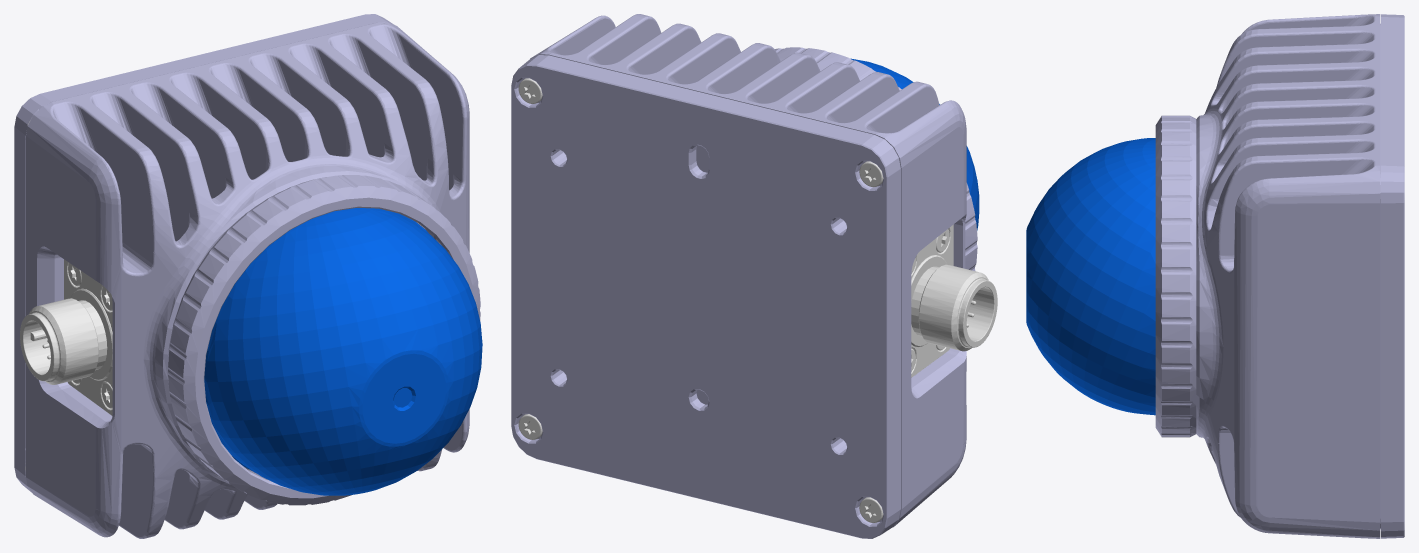
File: mid360.glb
The picture shows the model from 3 angles, left to right: view 1: azimuth 30°, elevation 25°; view 2: azimuth 150°, elevation 25°; view 3: azimuth 270°, elevation 25°; orthographic projection. The views are drawn at different scales.
Parts seen in each view (by area): view 1: ZLD_Link.012, ZLD_Link.010, ZLD_Link.011, ZLD_Link.014, ZLD_Link.013; view 2: ZLD_Link.014, ZLD_Link.012, ZLD_Link.013, ZLD_Link.011, ZLD_Link.010; view 3: ZLD_Link.012, ZLD_Link.010, ZLD_Link.011, ZLD_Link.014.
Part boxes in pixels (x1,y1,x2,y2): ZLD_Link.012: (26, 22, 469, 538); ZLD_Link.010: (204, 208, 482, 495); ZLD_Link.011: (167, 175, 480, 505); ZLD_Link.014: (14, 14, 393, 492); ZLD_Link.013: (20, 259, 112, 415); ZLD_Link.014: (511, 55, 900, 538); ZLD_Link.012: (530, 14, 966, 527); ZLD_Link.013: (911, 224, 997, 377); ZLD_Link.011: (775, 47, 977, 270); ZLD_Link.010: (850, 58, 979, 230); ZLD_Link.012: (1196, 14, 1380, 538); ZLD_Link.010: (1026, 138, 1155, 415); ZLD_Link.011: (1155, 115, 1196, 437); ZLD_Link.014: (1381, 14, 1404, 538).
Bounding box in the file's own units: 0.0707 × 0.0649 × 0.06.
